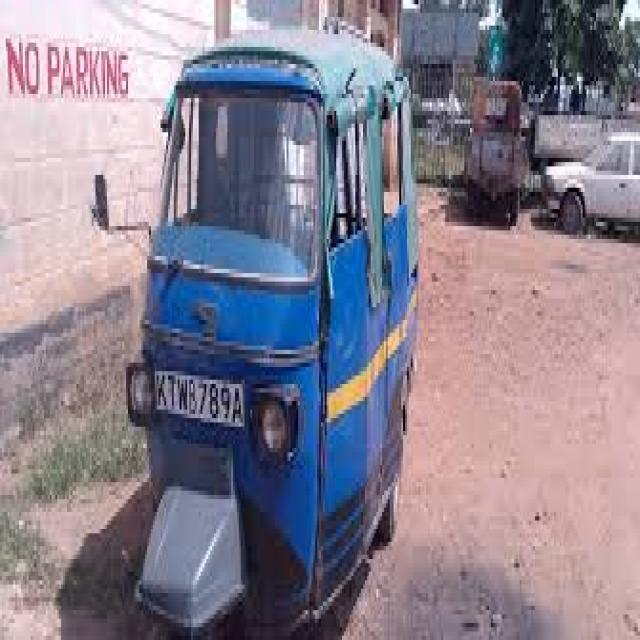tuktuk: (68, 0, 439, 640)
